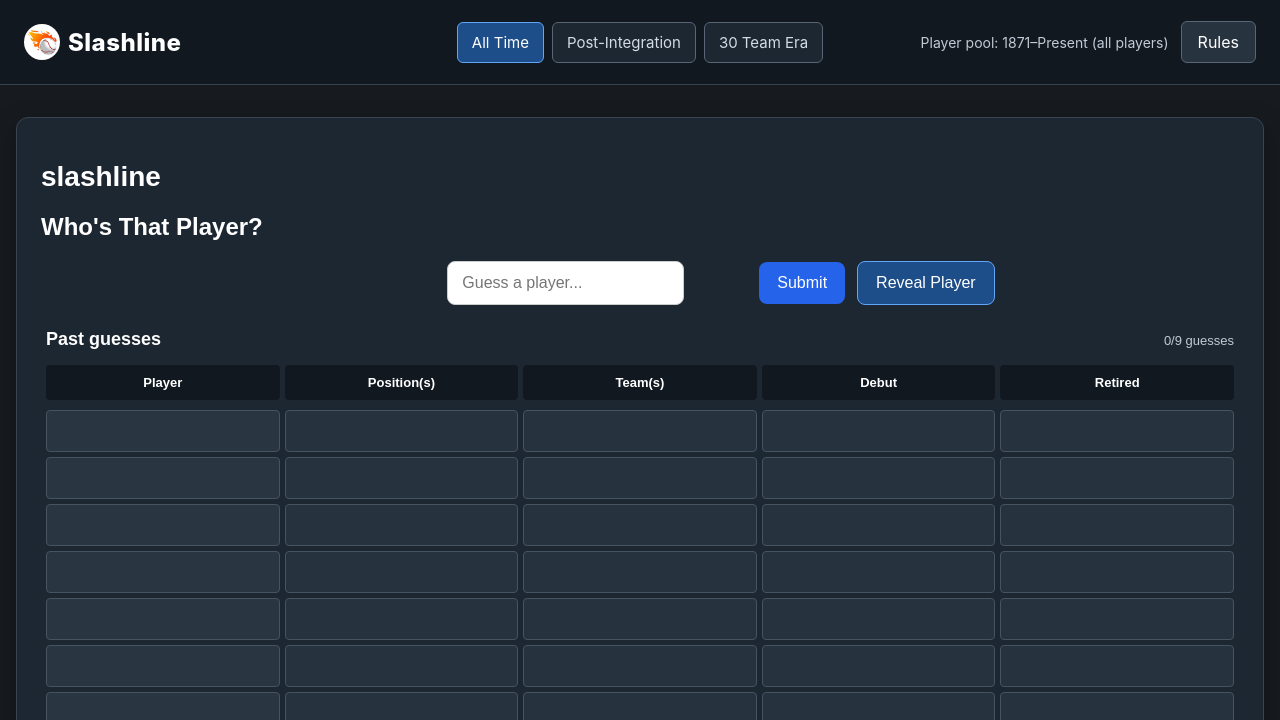
it: Game player guesses › submits the selected suggestion ID with the active mode
The image size is (1280, 720).
Later steps or results of the test are not shown.
Type "Sam" into the field with placeholder "Guess a player...". click: coordinates (566, 283)
box: [447,261,684,305]
Wait 1000 ms
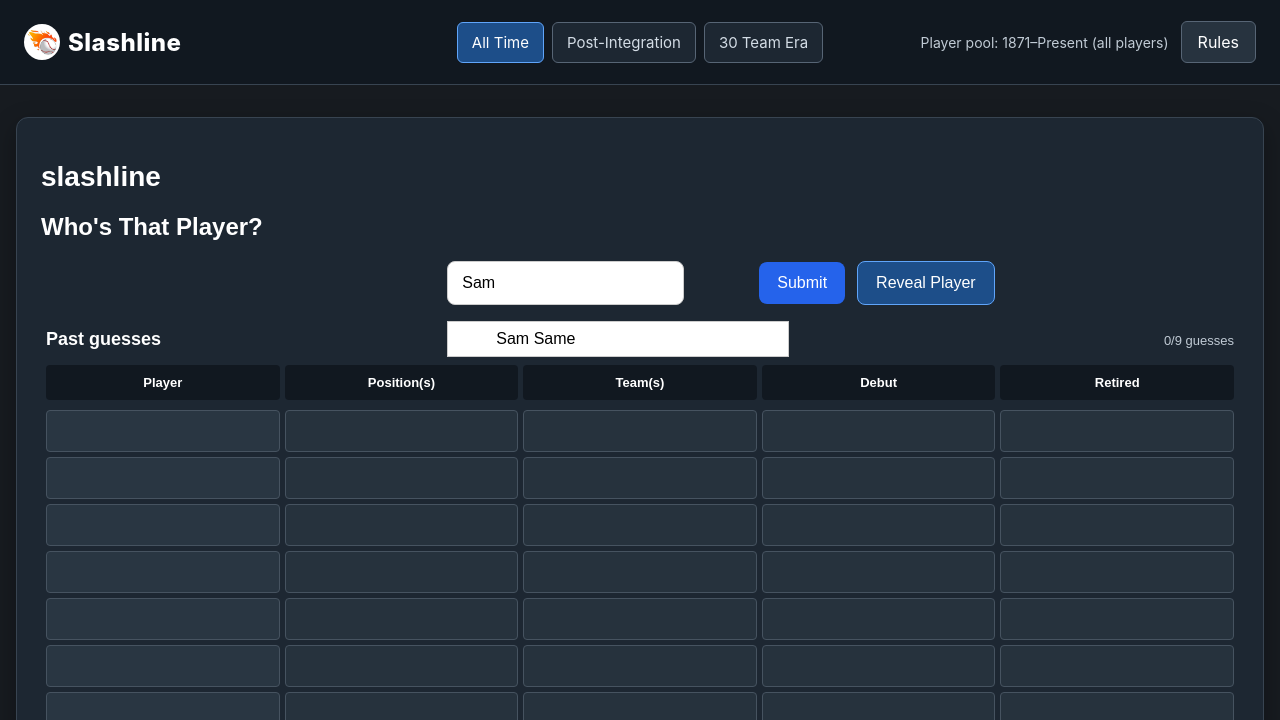
Press the mouse on the list item "Sam Same" at coordinates (536, 338), box [496,330,575,347]
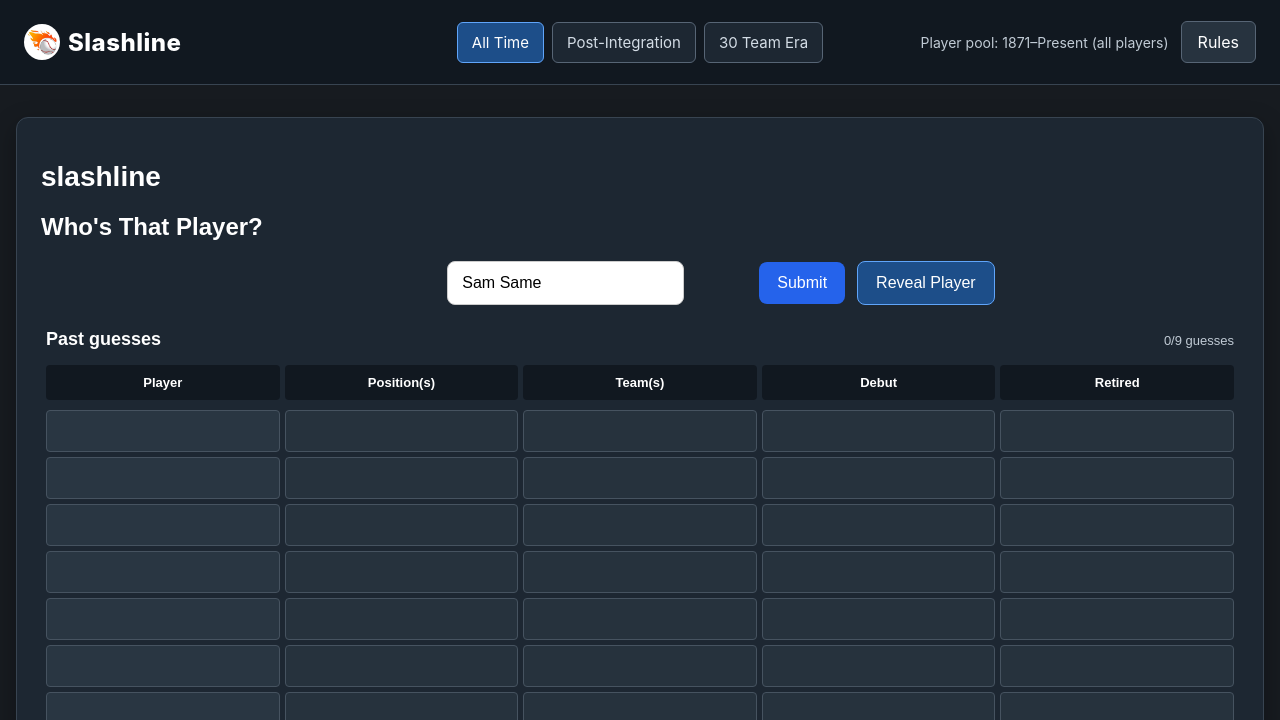
Expected: the field with placeholder "Guess a player..." holds "Sam Same", [447,261,684,305]
